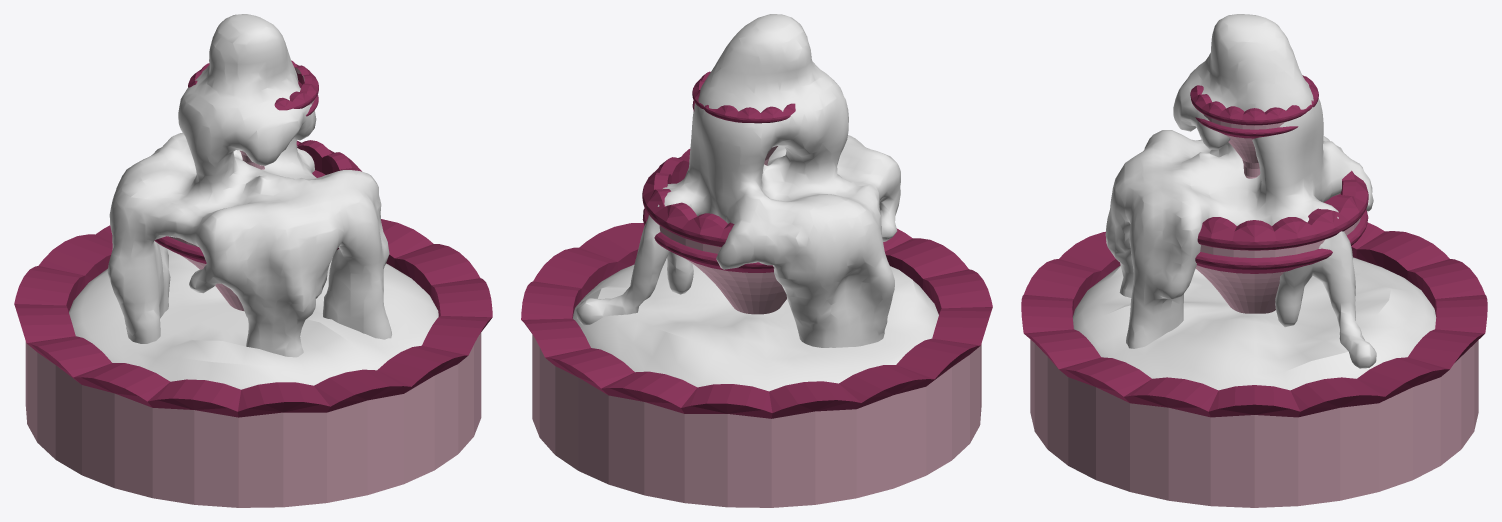
The model's file is fountain.fbx.
The picture shows the model from 3 angles, left to right: view 1: azimuth 30°, elevation 25°; view 2: azimuth 150°, elevation 25°; view 3: azimuth 270°, elevation 25°; orthographic projection.
Visible parts, largest first — view 1: Cylinder.002, Liquid Domain, Sphere.001; view 2: Cylinder.002, Liquid Domain, Sphere.001; view 3: Cylinder.002, Liquid Domain, Sphere.001.
Boxes of the visible parts, x1,y1,x2,y2 form: Cylinder.002: [14, 60, 492, 507]; Liquid Domain: [107, 14, 391, 357]; Sphere.001: [69, 248, 438, 389]; Cylinder.002: [521, 71, 992, 507]; Liquid Domain: [576, 14, 900, 347]; Sphere.001: [572, 258, 938, 391]; Cylinder.002: [1021, 75, 1487, 507]; Liquid Domain: [1105, 14, 1376, 368]; Sphere.001: [1072, 257, 1436, 390].
Bounding box in the file's own units: 581 × 536 × 581.
